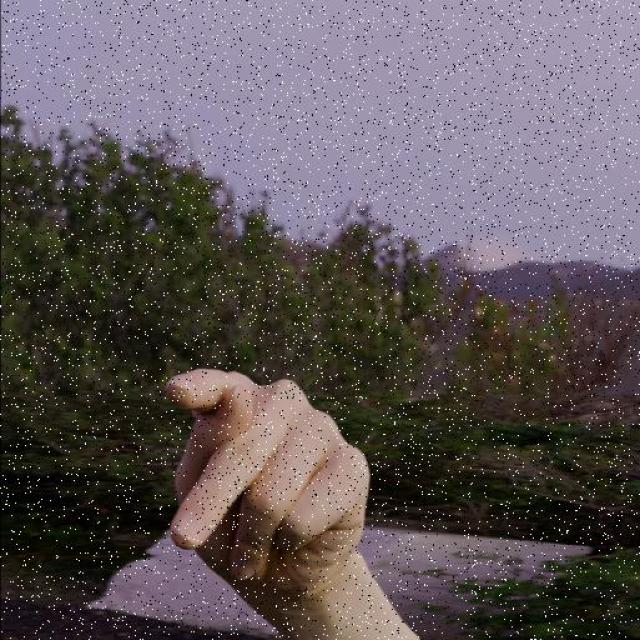P: (121, 327, 414, 640)
